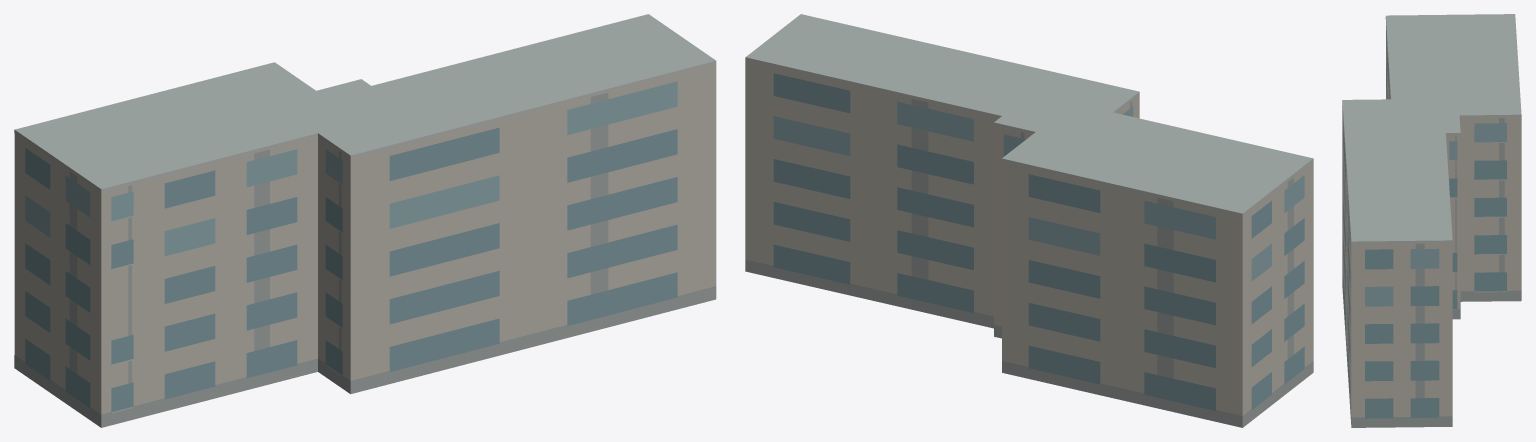
File: residential-2ecb31b9-09f5-4a0a-ac9b-e66a4d55cb7b.glb
3 views of the same model, side by side, from view 1: azimuth 30°, elevation 25°; view 2: azimuth 150°, elevation 25°; view 3: azimuth 270°, elevation 25° (orthographic). The views are drawn at different scales.
Parts seen in each view (by area): view 1: residential-2ecb31b9-09f5-4a0a-ac9b-e66a4d55cb7b.tmp; view 2: residential-2ecb31b9-09f5-4a0a-ac9b-e66a4d55cb7b.tmp; view 3: residential-2ecb31b9-09f5-4a0a-ac9b-e66a4d55cb7b.tmp.
Boxes of the visible parts, x1,y1,x2,y2 form: residential-2ecb31b9-09f5-4a0a-ac9b-e66a4d55cb7b.tmp: [14, 14, 716, 427]; residential-2ecb31b9-09f5-4a0a-ac9b-e66a4d55cb7b.tmp: [745, 14, 1313, 427]; residential-2ecb31b9-09f5-4a0a-ac9b-e66a4d55cb7b.tmp: [1342, 14, 1521, 427].
Bounding box in the file's own units: 39.93 × 15.25 × 13.29.
